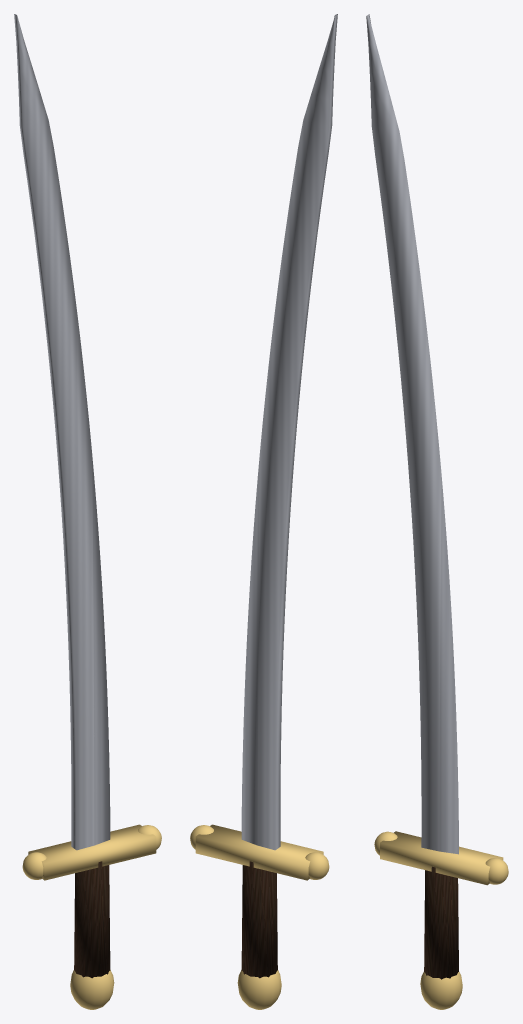
File: W_saber.glb
3 renders of one model, left to right at view 1: azimuth 30°, elevation 25°; view 2: azimuth 150°, elevation 25°; view 3: azimuth 330°, elevation 25°, orthographic. The views are drawn at different scales.
Parts seen in each view (by area): view 1: W_saber; view 2: W_saber; view 3: W_saber.
Part boxes in pixels (x1,y1,x2,y2): W_saber: (14,14,161,1009); W_saber: (190,14,337,1009); W_saber: (366,14,508,1009).
Size of the model in its own units: 0.1425 by 0.9538 by 0.038.
3 materials, 2 textured.
